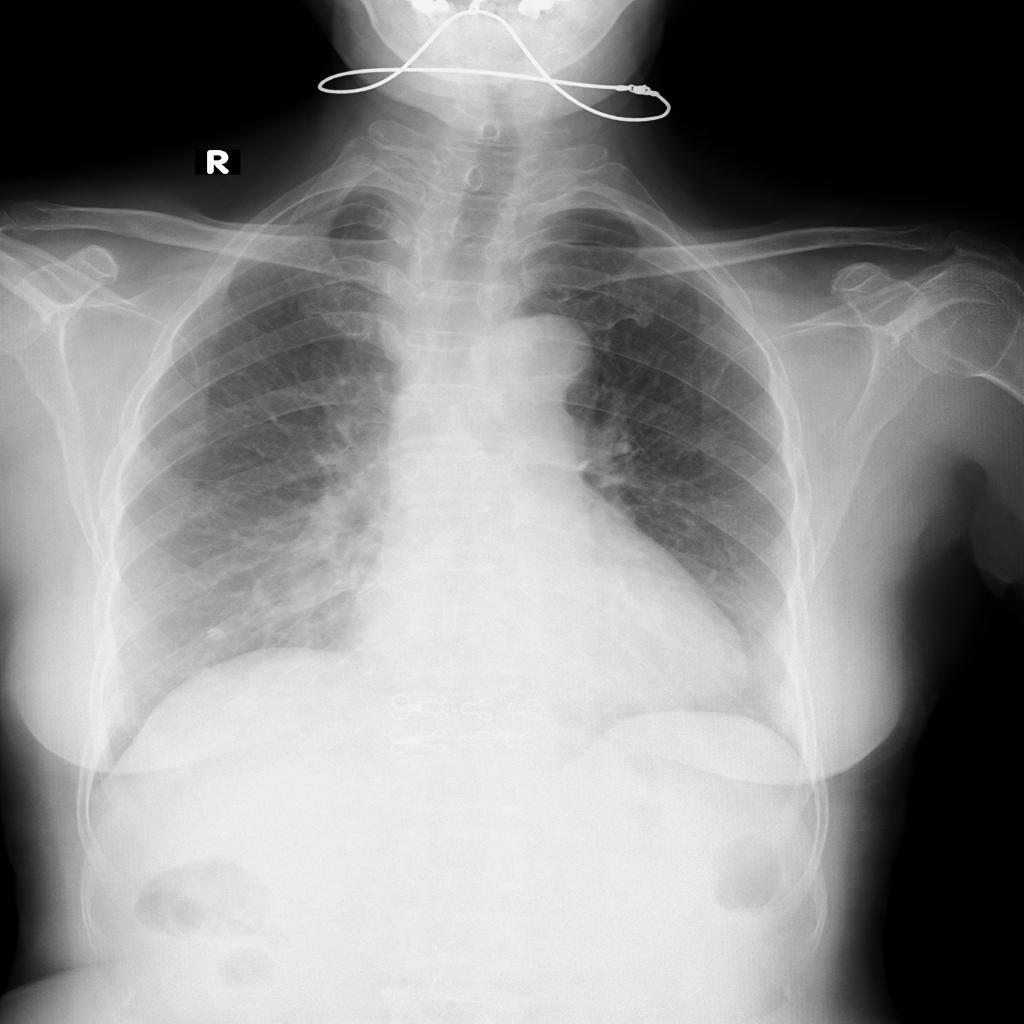Nodule: (204, 626, 233, 645)
